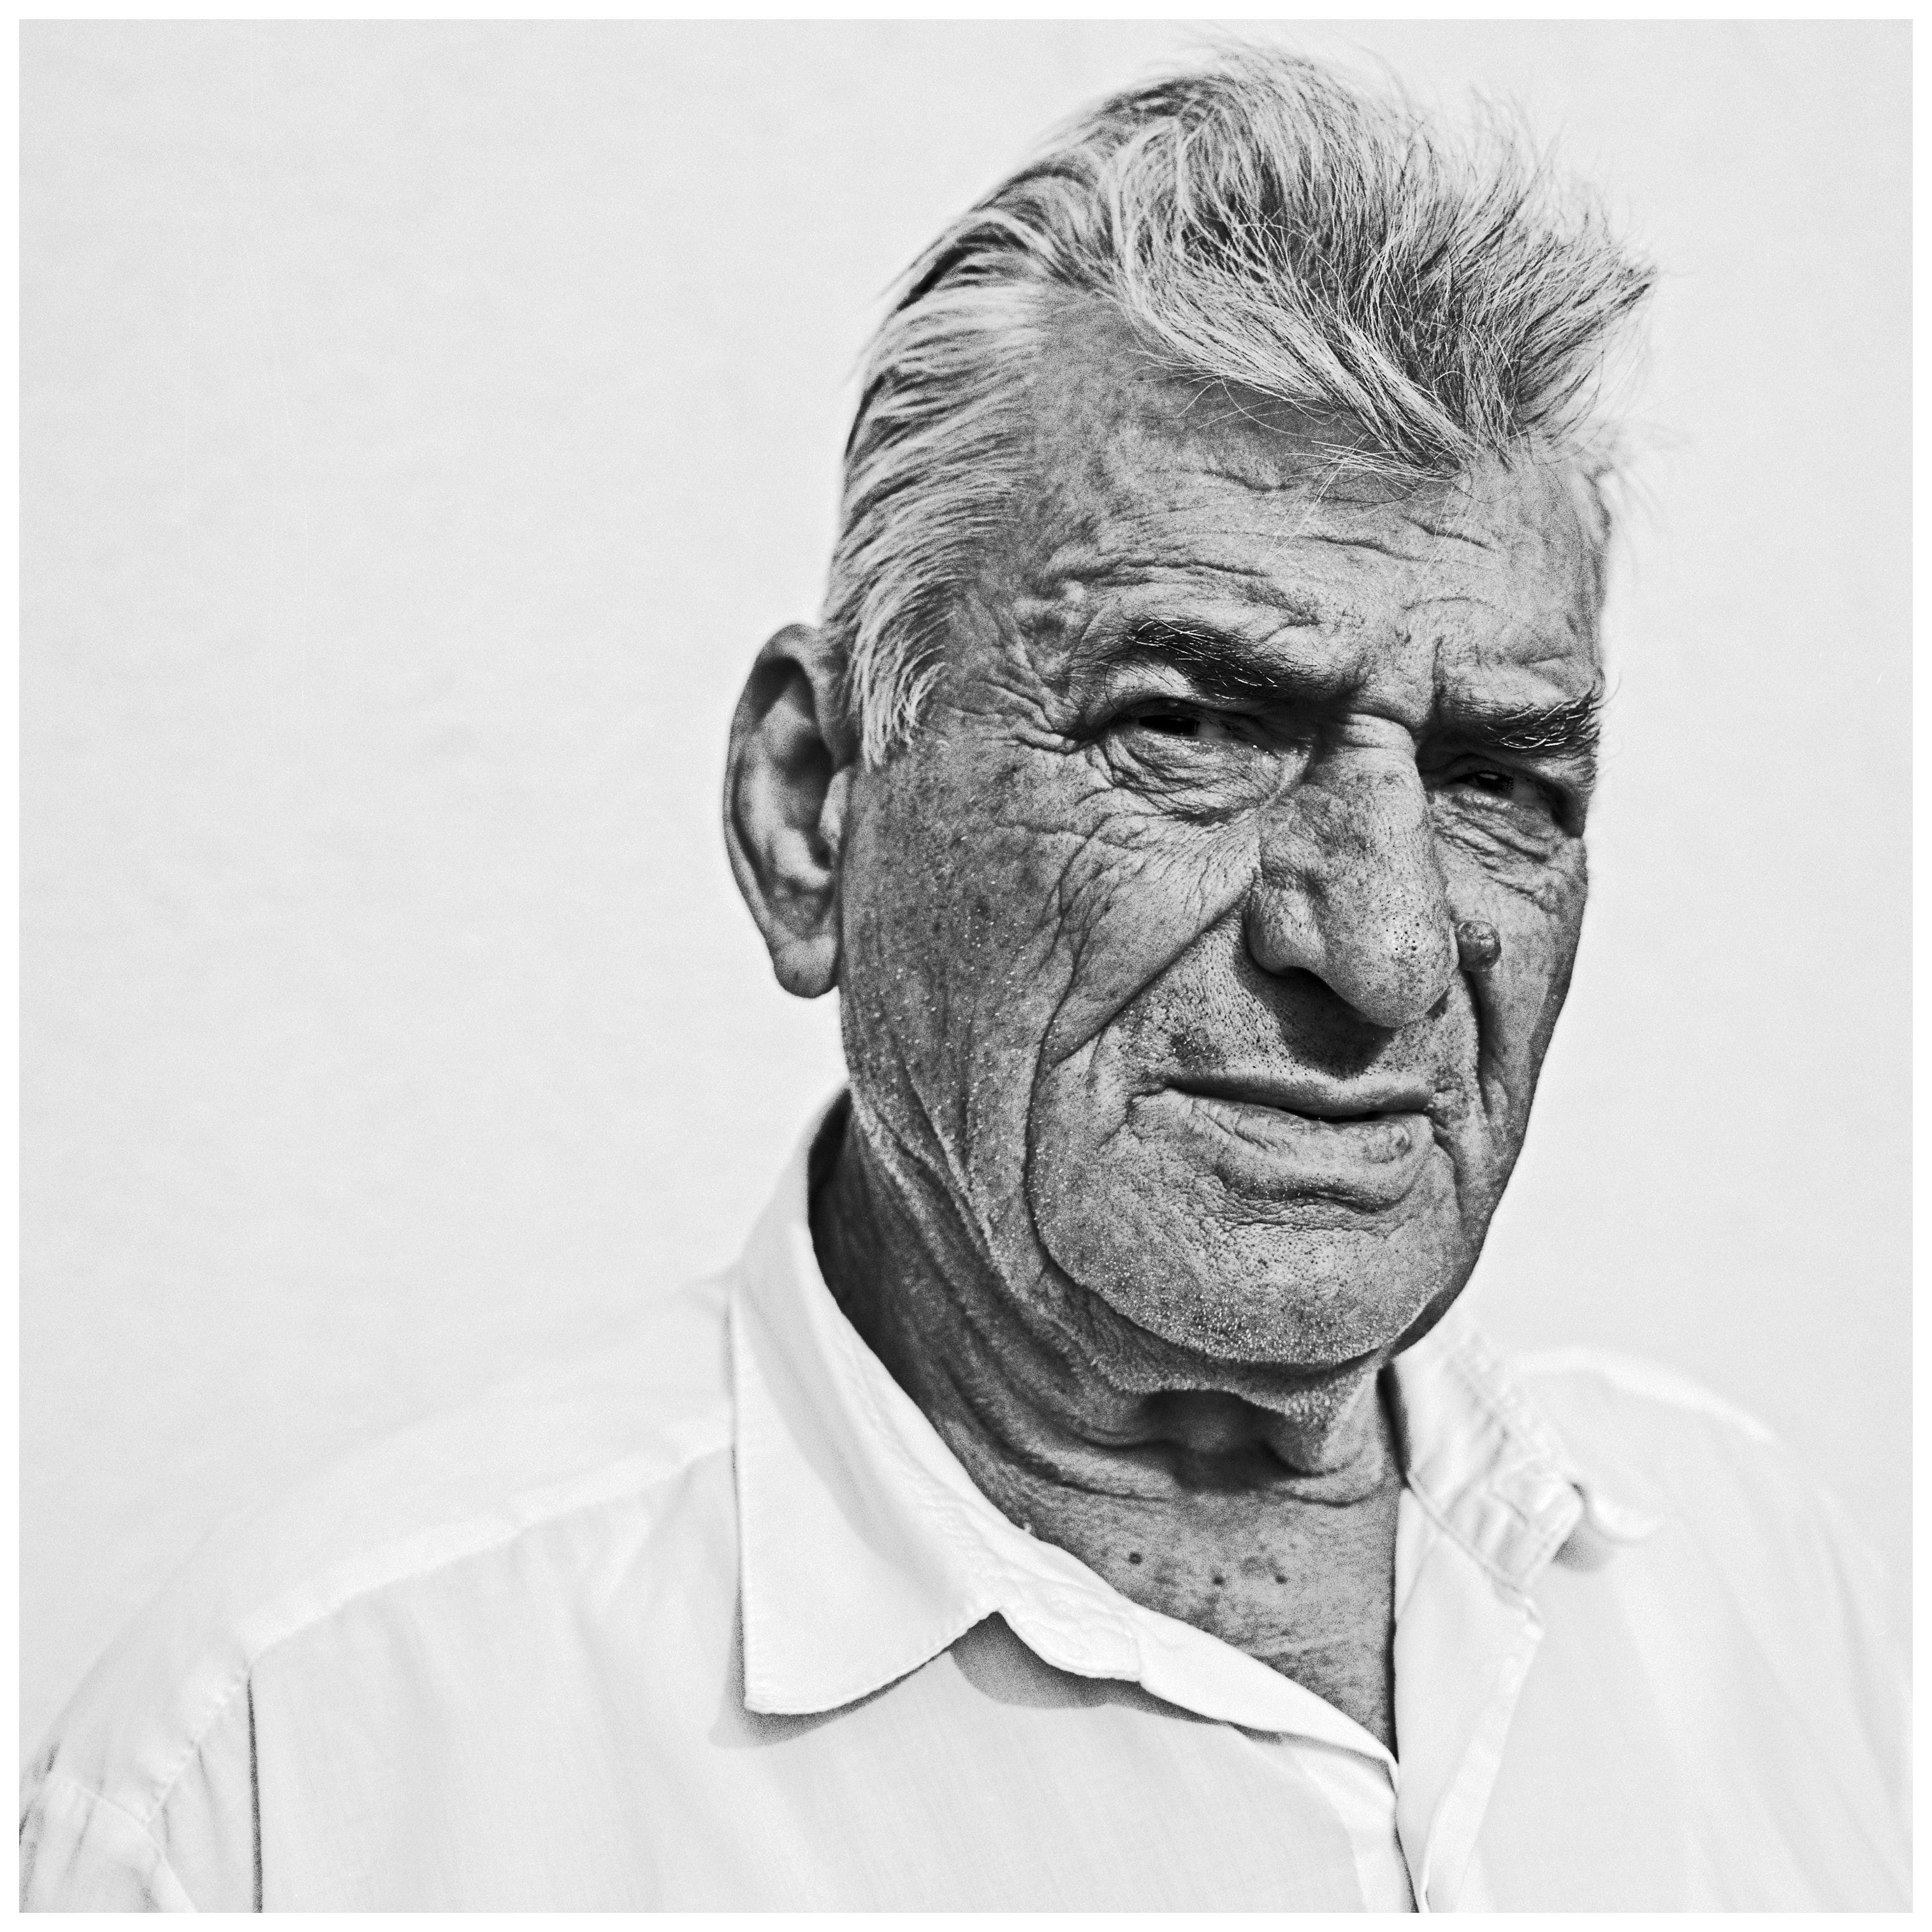Wrinkles: (1189, 533, 1493, 571), (1407, 596, 1553, 646), (1060, 816, 1109, 916), (1405, 515, 1491, 548), (1155, 471, 1292, 490), (1129, 559, 1270, 577), (1042, 904, 1072, 964), (1522, 655, 1575, 667)
